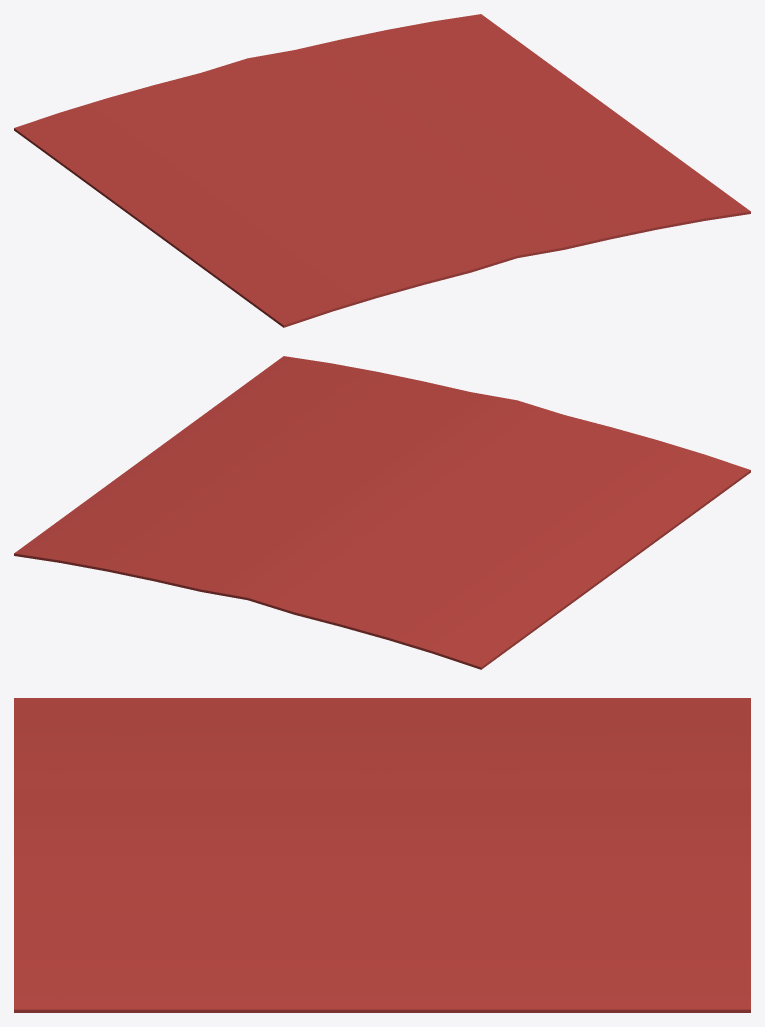
File: plastic_tip.glb
The picture shows the model from 3 angles, top to bottom: view 1: azimuth 30°, elevation 25°; view 2: azimuth 150°, elevation 25°; view 3: azimuth 270°, elevation 25°; orthographic projection. The views are drawn at different scales.
Parts seen in each view (by area): view 1: lod0; view 2: lod0; view 3: lod0.
Boxes of the visible parts, bbox=[...] form: lod0: bbox=[14, 14, 750, 327]; lod0: bbox=[14, 356, 750, 669]; lod0: bbox=[14, 698, 750, 1012].
Size of what is drawn, in the model's own units: 1 by 0.031 by 1.
